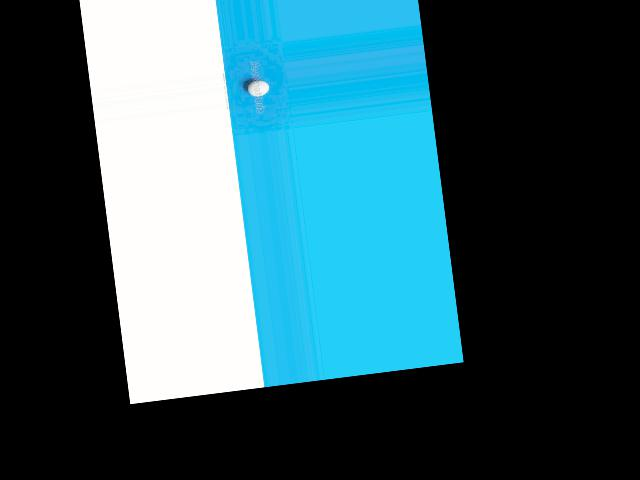egg: (246, 78, 270, 97)
